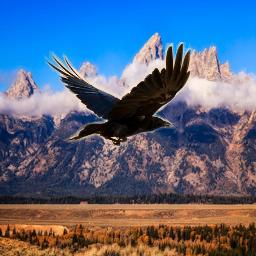Crow: (44, 42, 194, 147)
